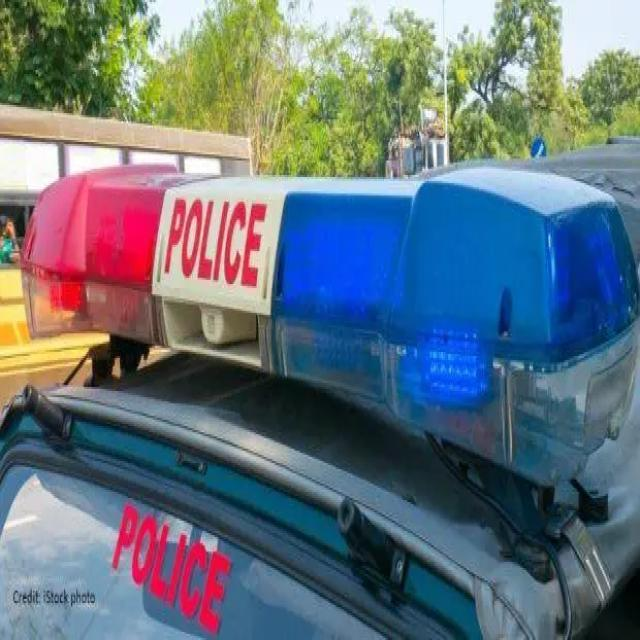Ambulance: (2, 140, 637, 636), (1, 98, 255, 400), (406, 132, 638, 276), (0, 212, 21, 268)
